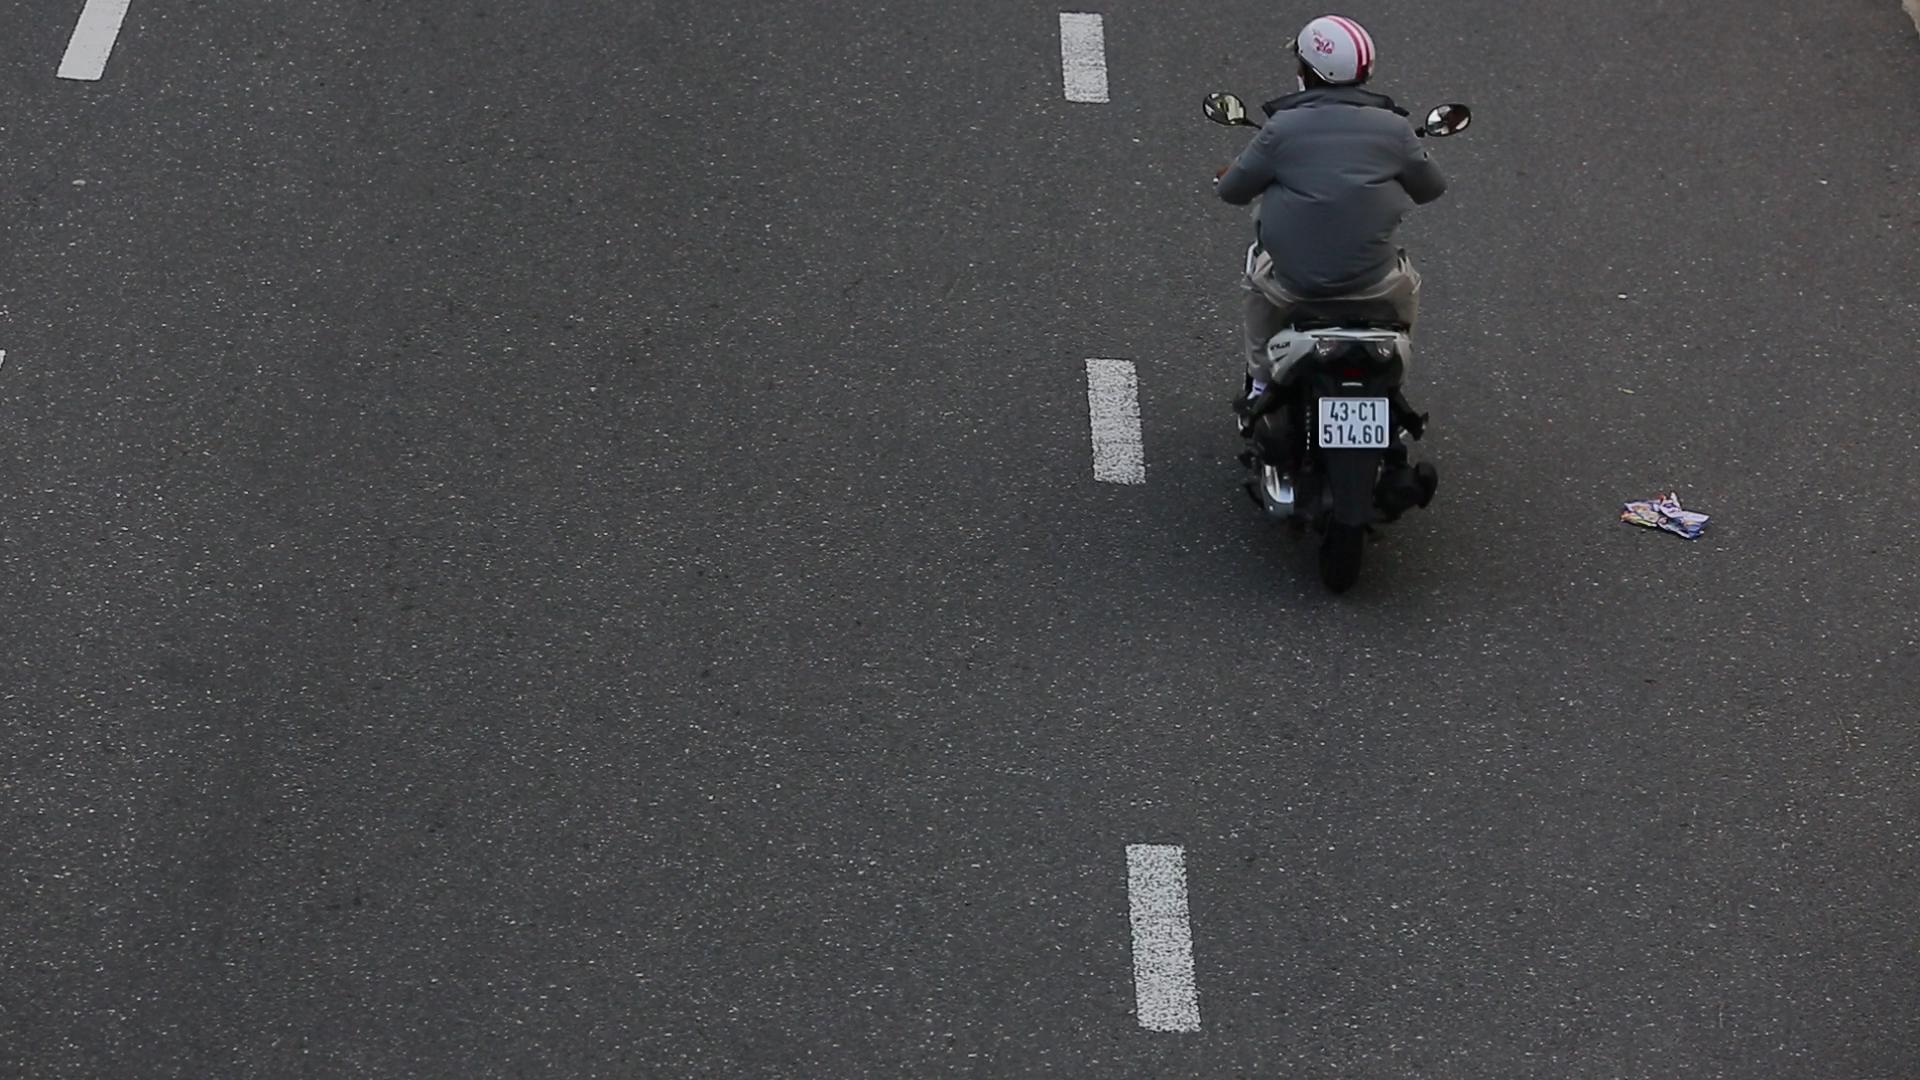motobike: (1187, 12, 1477, 604)
